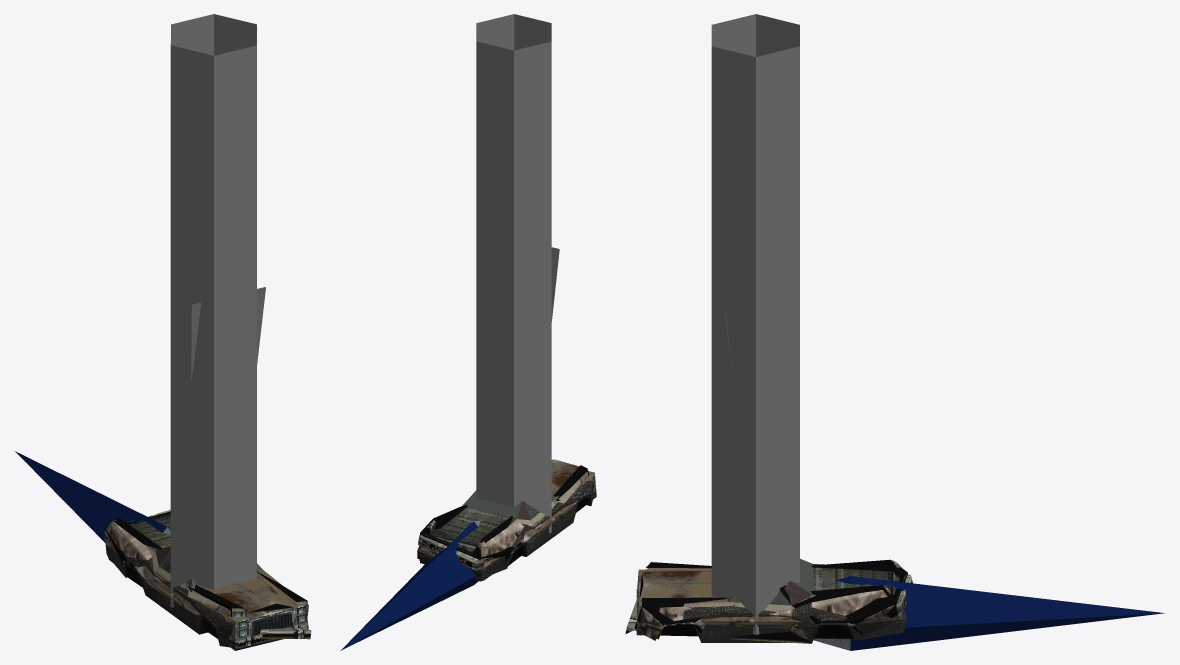
The model's file is v82_el_guerrero.obj.
The picture shows the model from 3 angles, left to right: view 1: azimuth 30°, elevation 25°; view 2: azimuth 150°, elevation 25°; view 3: azimuth 270°, elevation 25°; orthographic projection. The views are drawn at different scales.
Parts seen in each view (by area): view 1: v82_el_guerrero_tmd_019, v82_el_guerrero_tmd_007, v82_el_guerrero_tmd_017, v82_el_guerrero_tmd_001, v82_el_guerrero_tmd_000, v82_el_guerrero_tmd_015, v82_el_guerrero_tmd_004, v82_el_guerrero_tmd_018, v82_el_guerrero_tmd_002; view 2: v82_el_guerrero_tmd_019, v82_el_guerrero_tmd_017, v82_el_guerrero_tmd_007, v82_el_guerrero_tmd_004, v82_el_guerrero_tmd_015, v82_el_guerrero_tmd_000, v82_el_guerrero_tmd_001, v82_el_guerrero_tmd_002, v82_el_guerrero_tmd_018; view 3: v82_el_guerrero_tmd_019, v82_el_guerrero_tmd_017, v82_el_guerrero_tmd_007, v82_el_guerrero_tmd_015, v82_el_guerrero_tmd_001, v82_el_guerrero_tmd_000, v82_el_guerrero_tmd_003, v82_el_guerrero_tmd_004.
Part boxes in pixels (left/top/right/bottom): v82_el_guerrero_tmd_019: left=170, top=14, right=256, bottom=607; v82_el_guerrero_tmd_007: left=105, top=513, right=308, bottom=650; v82_el_guerrero_tmd_017: left=15, top=451, right=170, bottom=542; v82_el_guerrero_tmd_001: left=188, top=578, right=311, bottom=639; v82_el_guerrero_tmd_000: left=145, top=575, right=305, bottom=648; v82_el_guerrero_tmd_015: left=104, top=511, right=307, bottom=617; v82_el_guerrero_tmd_004: left=104, top=509, right=170, bottom=565; v82_el_guerrero_tmd_018: left=191, top=287, right=265, bottom=381; v82_el_guerrero_tmd_002: left=105, top=543, right=154, bottom=594; v82_el_guerrero_tmd_019: left=476, top=14, right=551, bottom=533; v82_el_guerrero_tmd_017: left=340, top=520, right=480, bottom=650; v82_el_guerrero_tmd_007: left=420, top=471, right=596, bottom=576; v82_el_guerrero_tmd_004: left=418, top=520, right=524, bottom=570; v82_el_guerrero_tmd_015: left=420, top=465, right=589, bottom=559; v82_el_guerrero_tmd_000: left=526, top=475, right=594, bottom=556; v82_el_guerrero_tmd_001: left=551, top=459, right=588, bottom=503; v82_el_guerrero_tmd_002: left=419, top=523, right=535, bottom=577; v82_el_guerrero_tmd_018: left=551, top=247, right=559, bottom=321; v82_el_guerrero_tmd_019: left=711, top=14, right=799, bottom=634; v82_el_guerrero_tmd_017: left=813, top=576, right=1164, bottom=650; v82_el_guerrero_tmd_007: left=636, top=559, right=901, bottom=639; v82_el_guerrero_tmd_015: left=634, top=559, right=907, bottom=641; v82_el_guerrero_tmd_001: left=625, top=568, right=811, bottom=643; v82_el_guerrero_tmd_000: left=636, top=579, right=791, bottom=642; v82_el_guerrero_tmd_003: left=779, top=585, right=906, bottom=643; v82_el_guerrero_tmd_004: left=811, top=560, right=912, bottom=635.
Bounding box in the file's own units: 0.6133 × 3.82 × 3.04.
47 materials, 35 textured.
